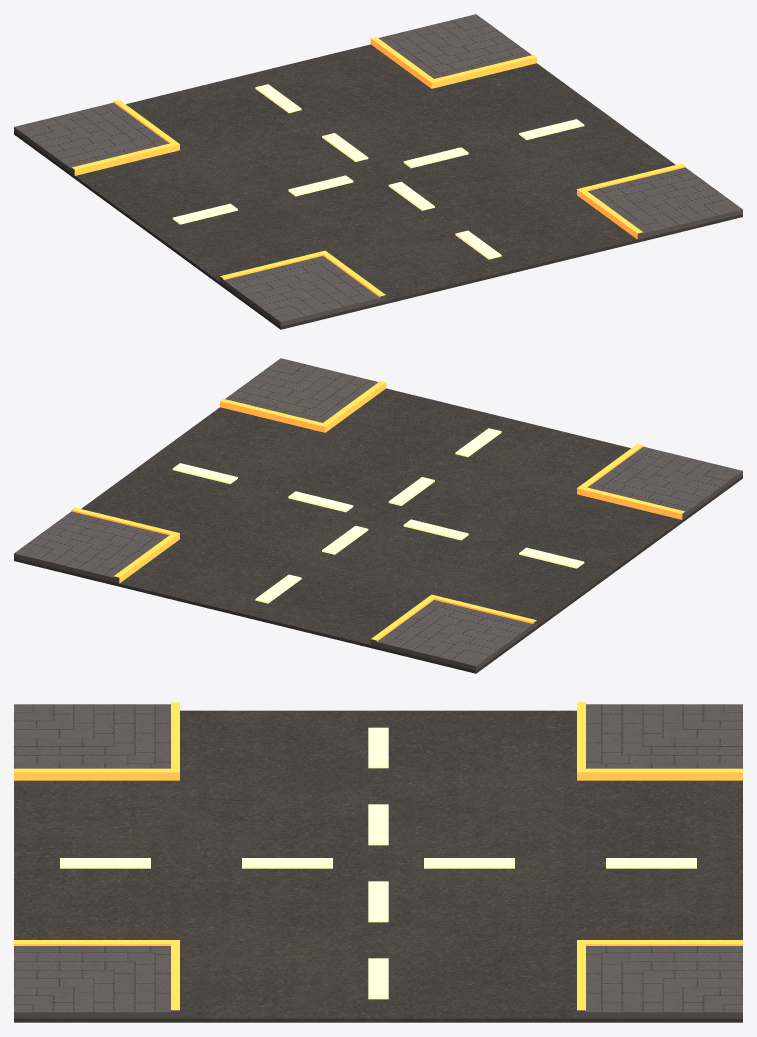
File: intersection4.glb
The picture shows the model from 3 angles, top to bottom: view 1: azimuth 30°, elevation 25°; view 2: azimuth 150°, elevation 25°; view 3: azimuth 270°, elevation 25°; orthographic projection. The views are drawn at different scales.
Visible parts, largest first — view 1: Intersection4; view 2: Intersection4; view 3: Intersection4.
Boxes of the visible parts, bbox=[...] form: Intersection4: bbox=[14, 14, 742, 329]; Intersection4: bbox=[14, 358, 742, 673]; Intersection4: bbox=[14, 702, 742, 1022].
Size of what is drawn, in the model's own units: 3.2 by 0.06 by 3.2.
4 materials, 4 textured.
